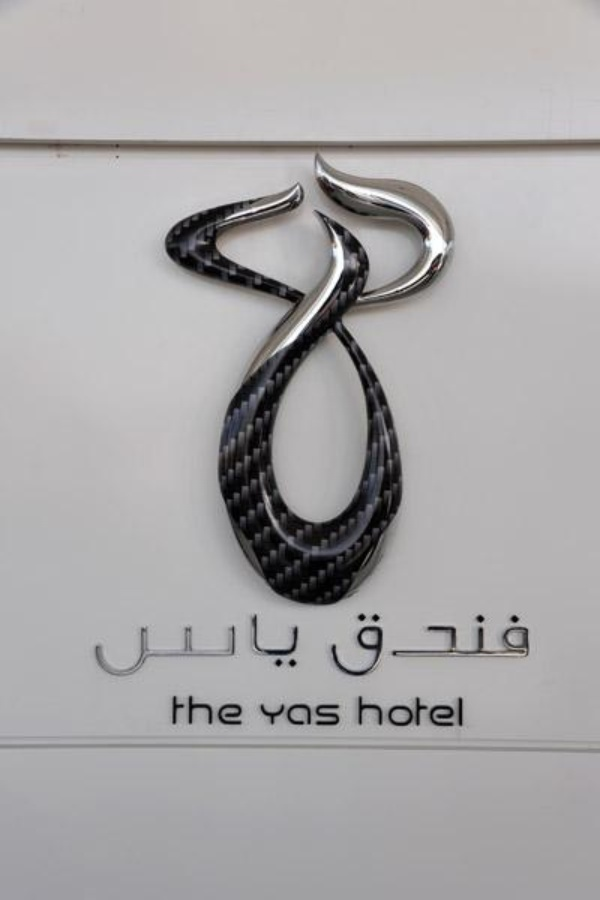text: (337, 610, 352, 679), (353, 610, 368, 679), (369, 610, 384, 679), (385, 610, 400, 679), (401, 610, 416, 679), (417, 610, 432, 679), (433, 610, 448, 679), (449, 610, 464, 679), (465, 610, 480, 679), (481, 610, 496, 679), (497, 610, 512, 679), (513, 610, 528, 679), (97, 610, 112, 679), (113, 610, 128, 679), (129, 610, 144, 679), (145, 610, 160, 679), (161, 610, 176, 679), (177, 610, 192, 679), (193, 610, 208, 679), (209, 610, 224, 679), (225, 610, 240, 679), (241, 610, 256, 679), (257, 610, 272, 679), (273, 610, 288, 679), (289, 610, 301, 679), (329, 610, 336, 679), (177, 695, 192, 727), (193, 695, 208, 727), (209, 695, 224, 727), (225, 695, 240, 727), (369, 697, 384, 728), (385, 697, 400, 728), (401, 697, 416, 728), (417, 697, 432, 728), (433, 697, 448, 728), (449, 697, 464, 728), (273, 703, 288, 727), (289, 703, 304, 727), (305, 703, 320, 727), (321, 703, 336, 727), (91, 610, 96, 679), (358, 697, 368, 728), (260, 703, 272, 727), (529, 610, 533, 679), (170, 695, 176, 727), (241, 695, 245, 727), (337, 703, 342, 727), (465, 697, 466, 728)
